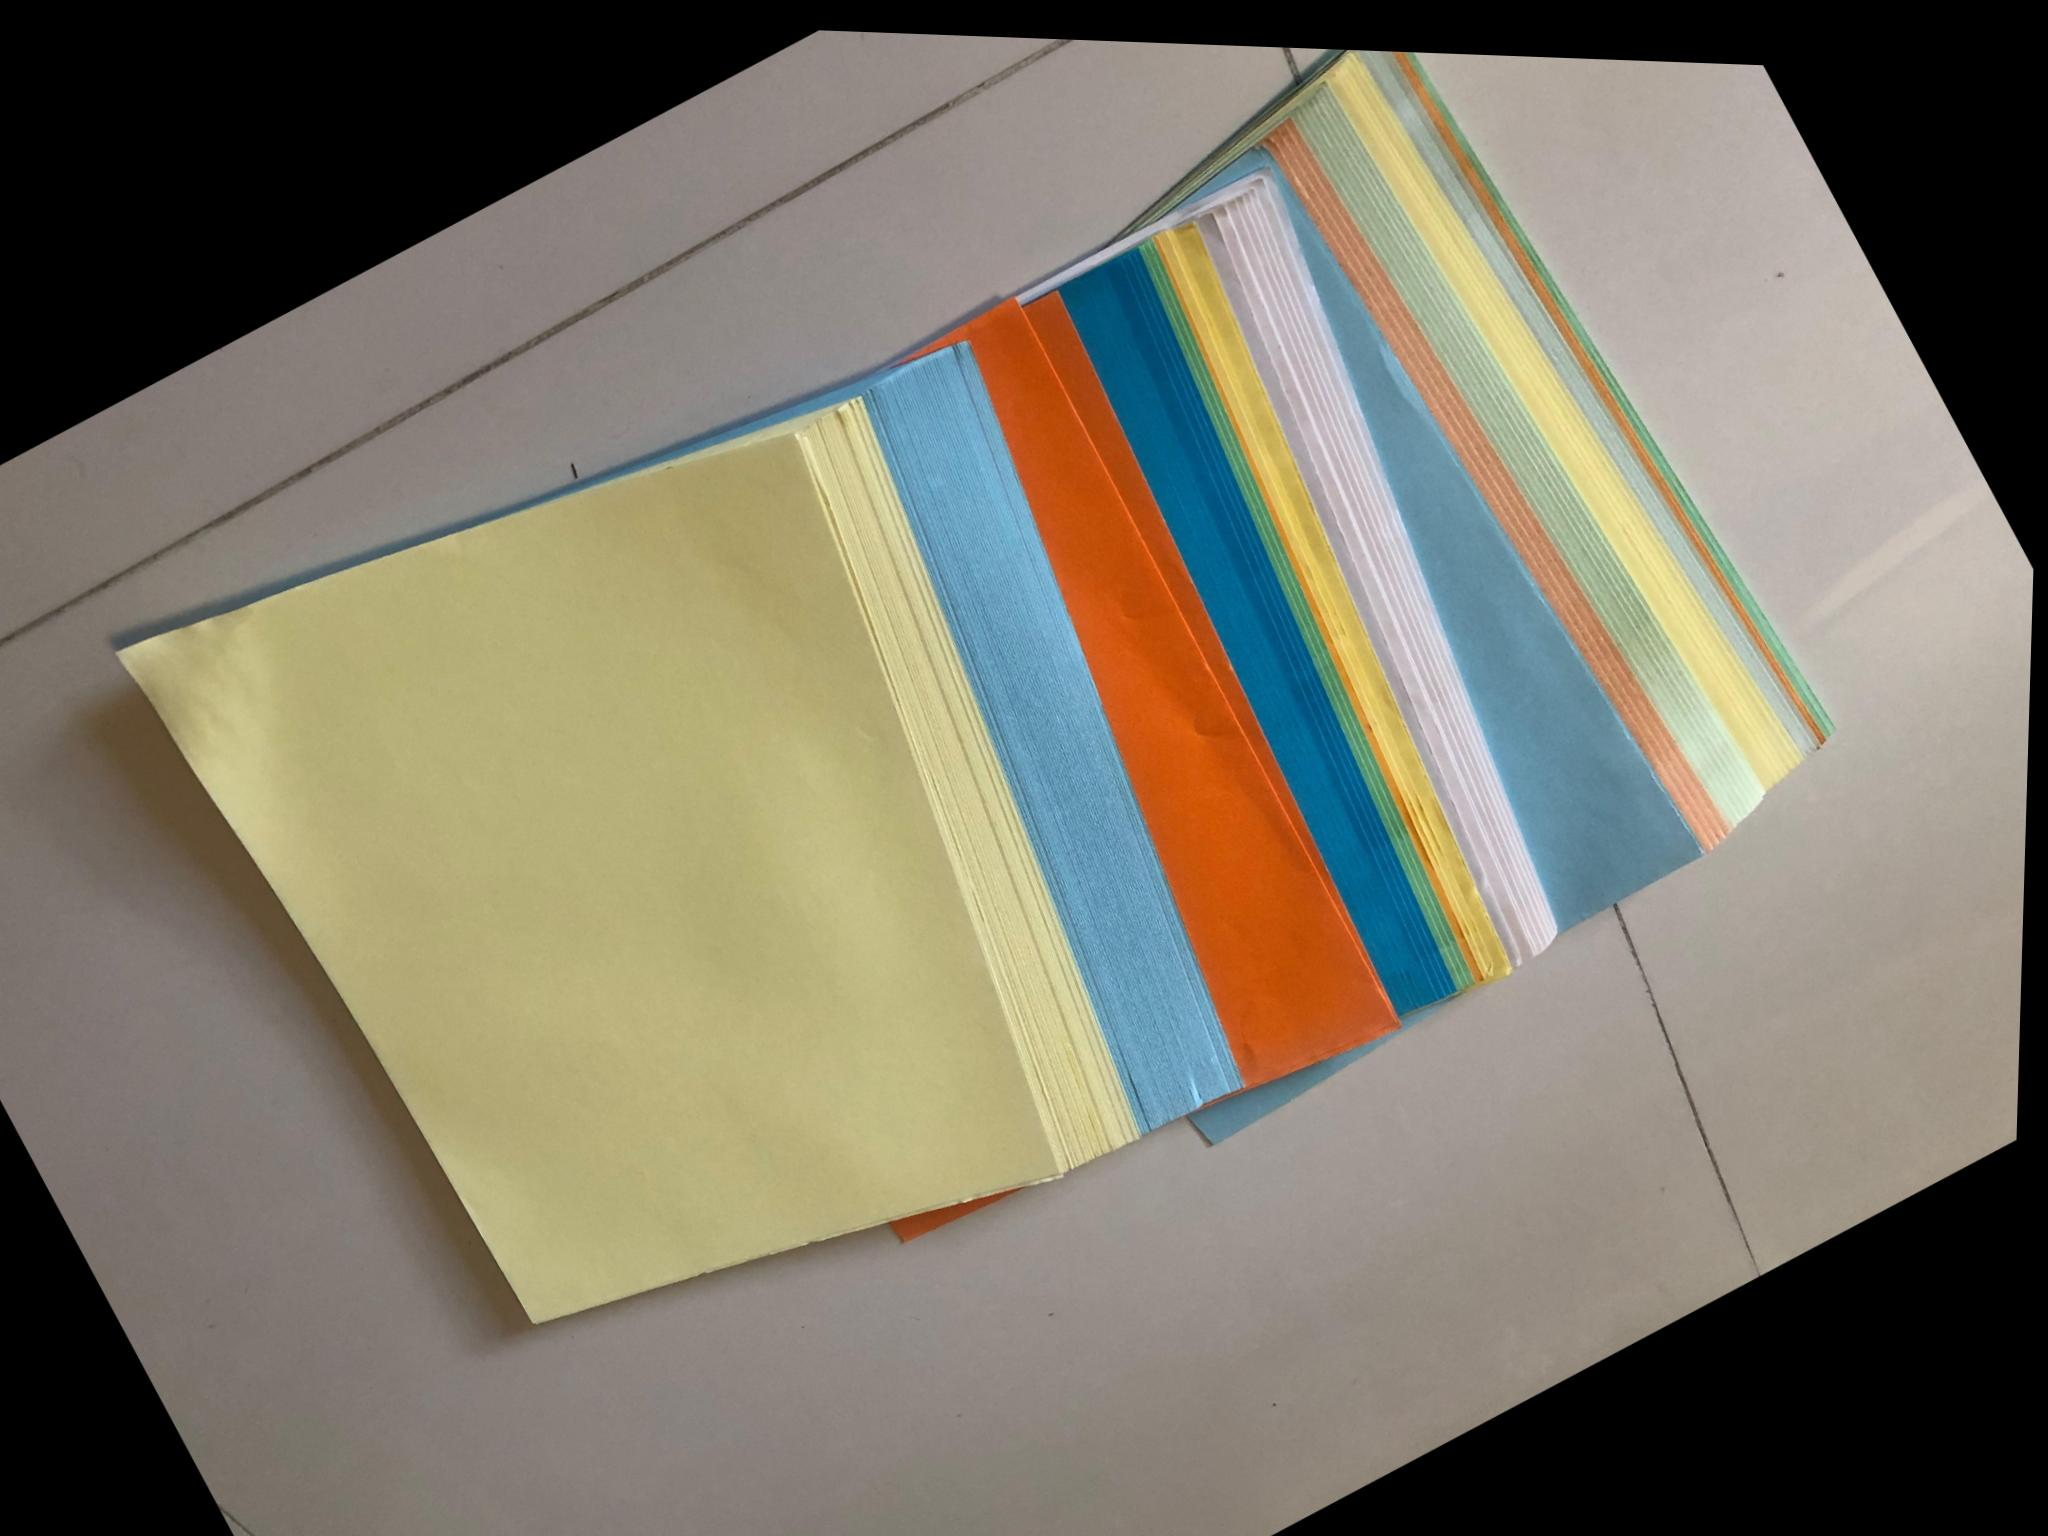paper: (0, 34, 1746, 1534)
